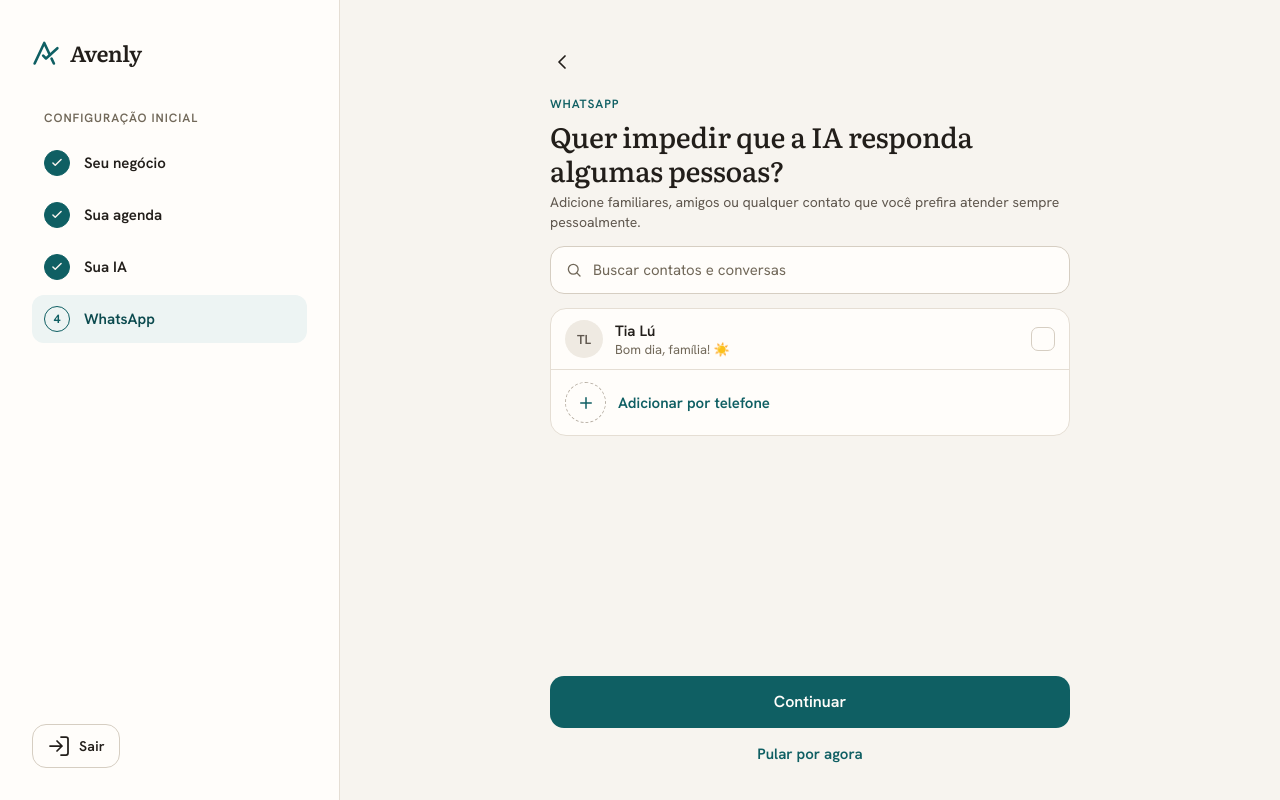
4.5: o rodapé › desmarcar a conversa tira o número adicionado por telefone e o rodapé volta a não contar
The width and height of the screenshot is (1280, 800).
Step 1. Click the checkbox labelled "Tia Lú" → (584,339), box [551,309,1069,369]
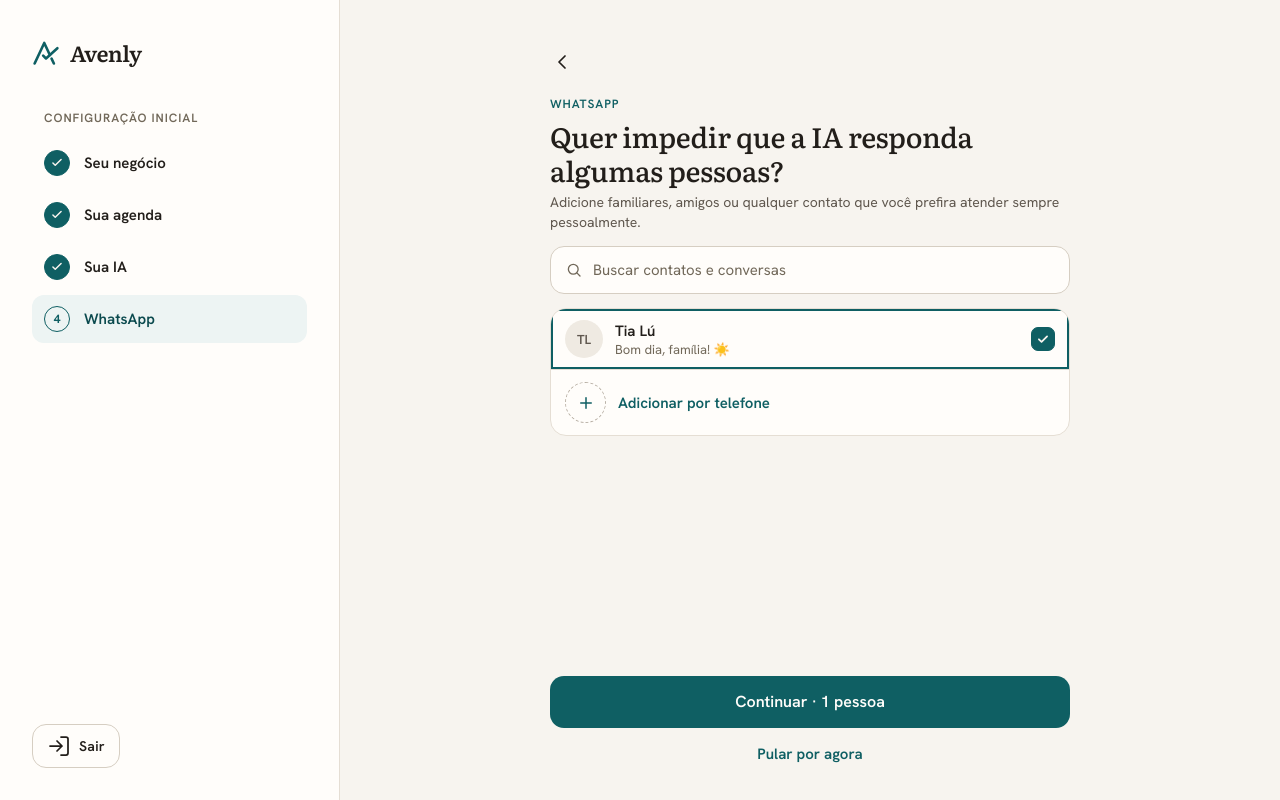
Check: the checkbox labelled "Tia Lú" is checked, box [551,309,1069,369]
Step 2. Click the button "Adicionar por telefone" → (586,403), box [551,369,1069,435]
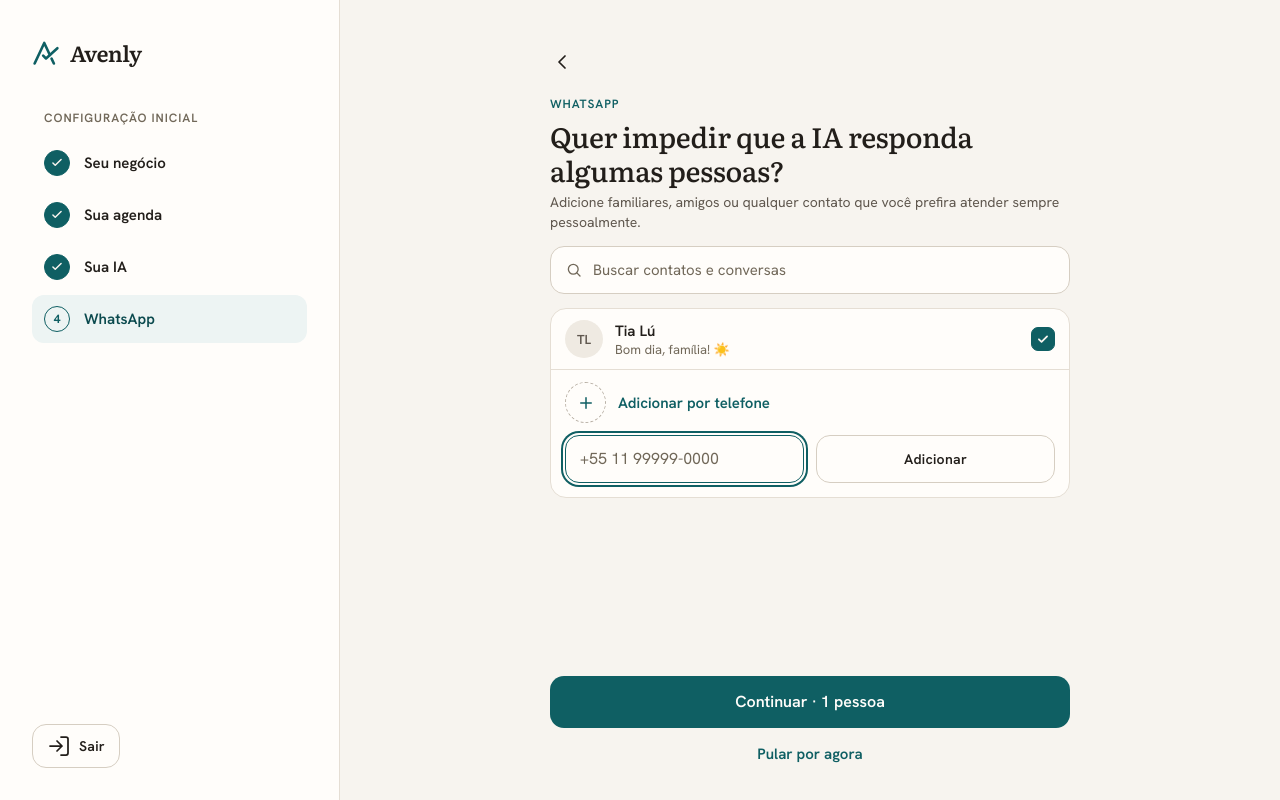
Step 3. Type "+55 11 93333-0000" into the field with placeholder "+55 11 99999-0000" → (684,459), box [565,435,804,483]
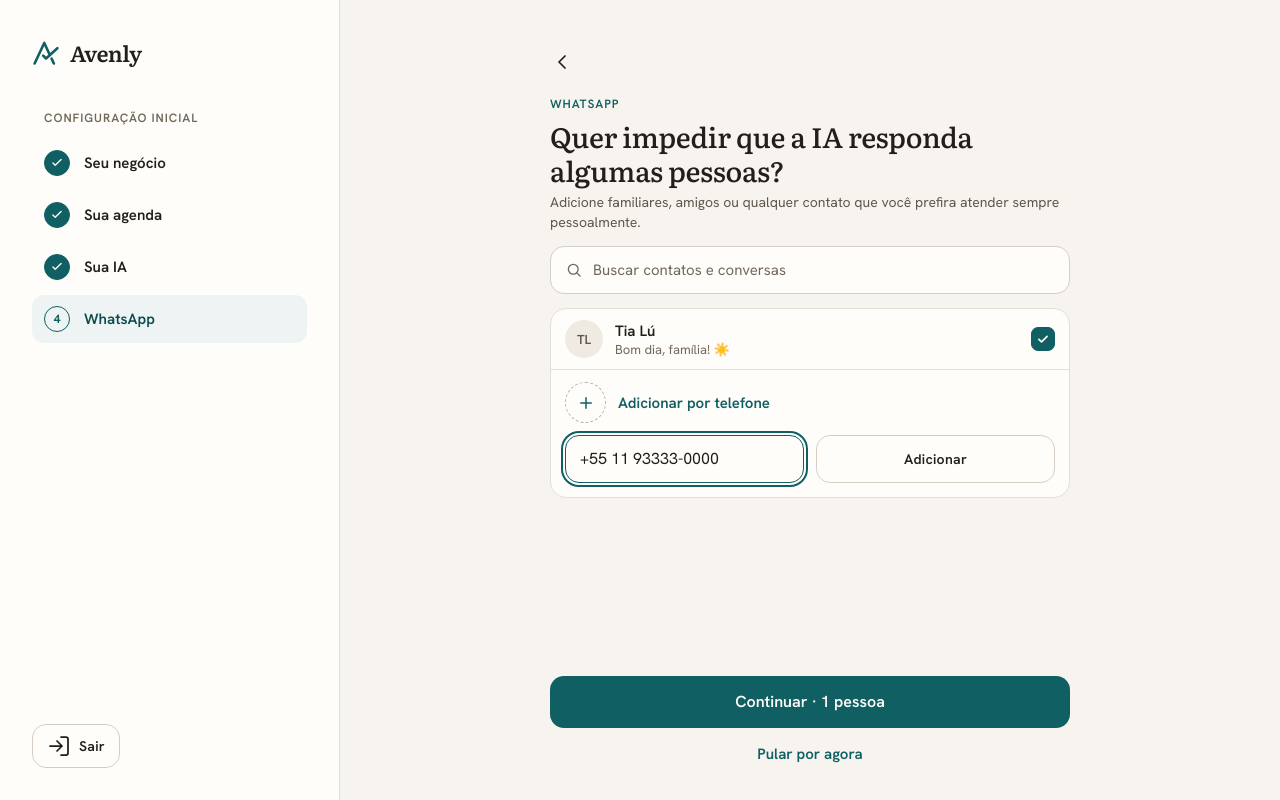
Step 4. Click the button "Adicionar" → (936,459), box [816,435,1055,483]
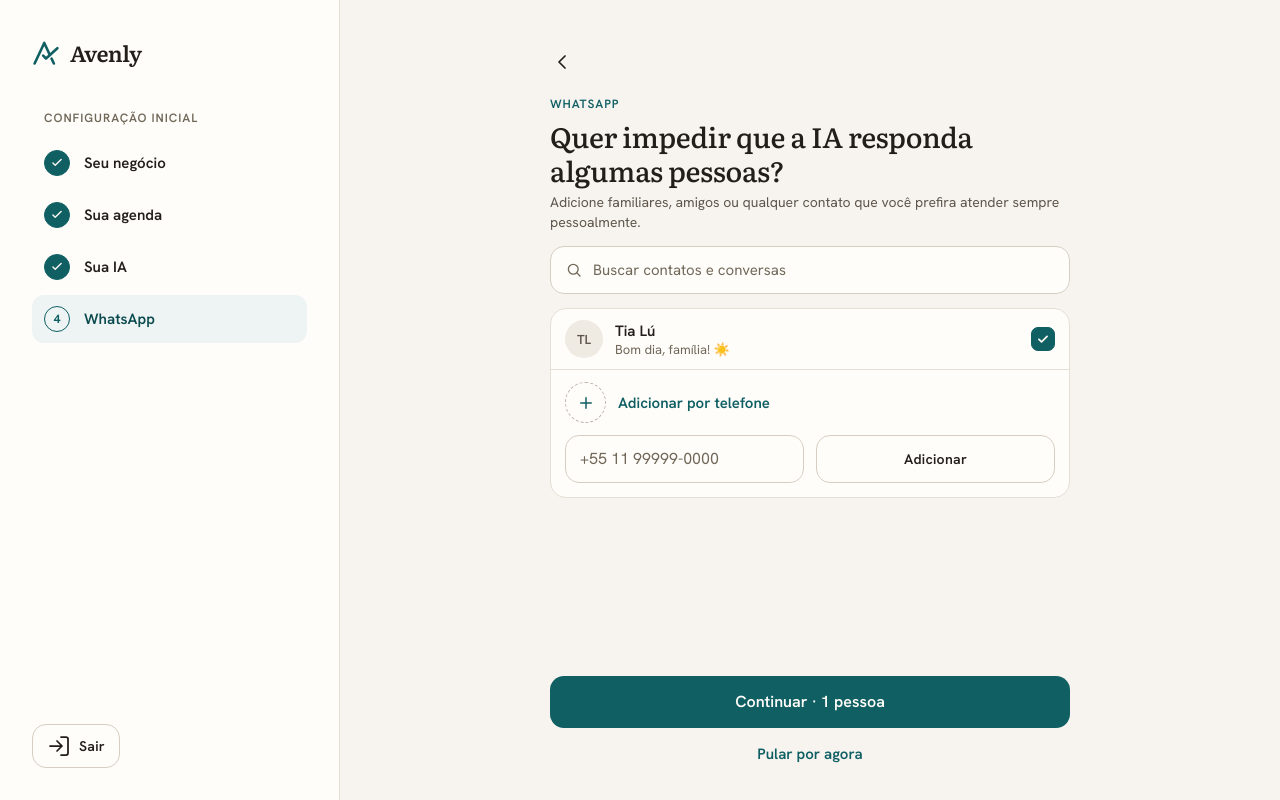
Check: the button "Continuar · 1 pessoa" is shown, box [550,676,1070,728]
Step 5. Click the checkbox labelled "Tia Lú" → (584,339), box [551,309,1069,369]
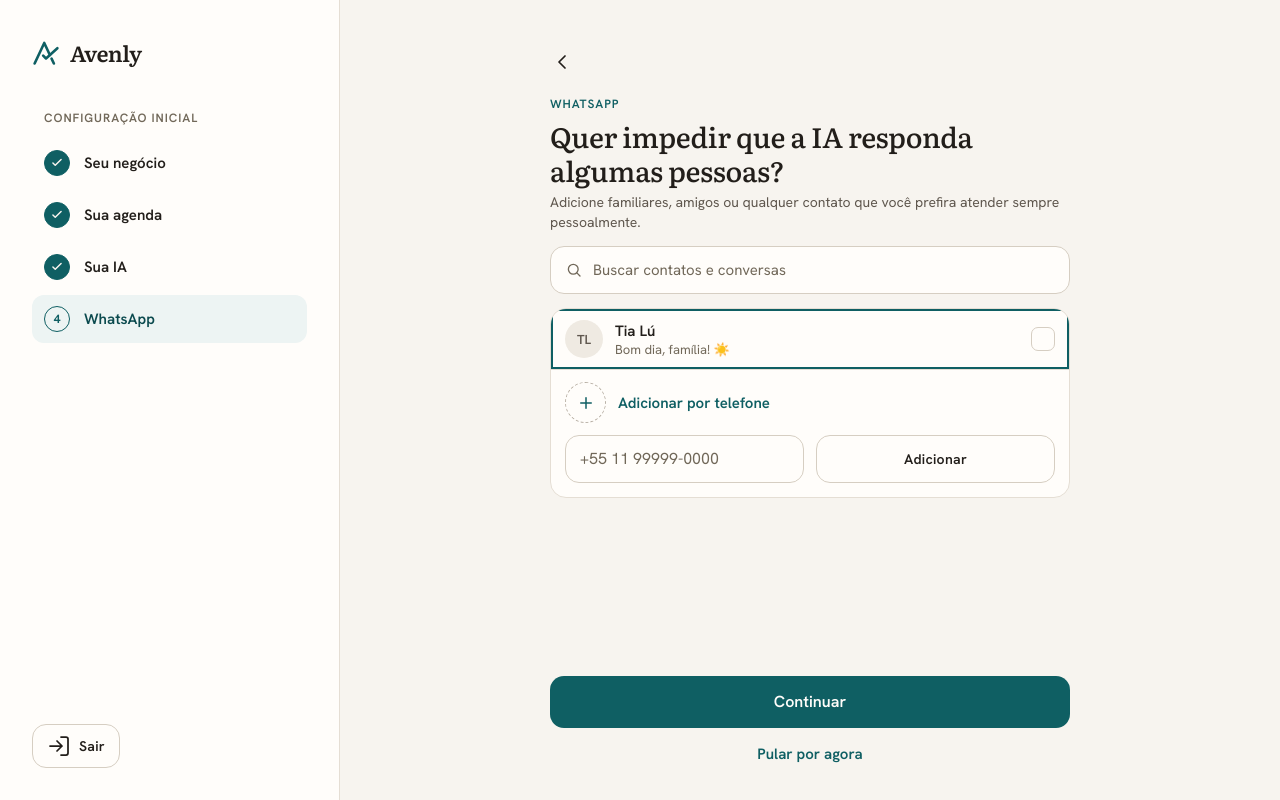
Check: the button "Continuar" is shown, box [550,676,1070,728]
Check: the checkbox labelled "Tia Lú" is not checked, box [551,309,1069,369]
Check: the button "Continuar · " is gone
